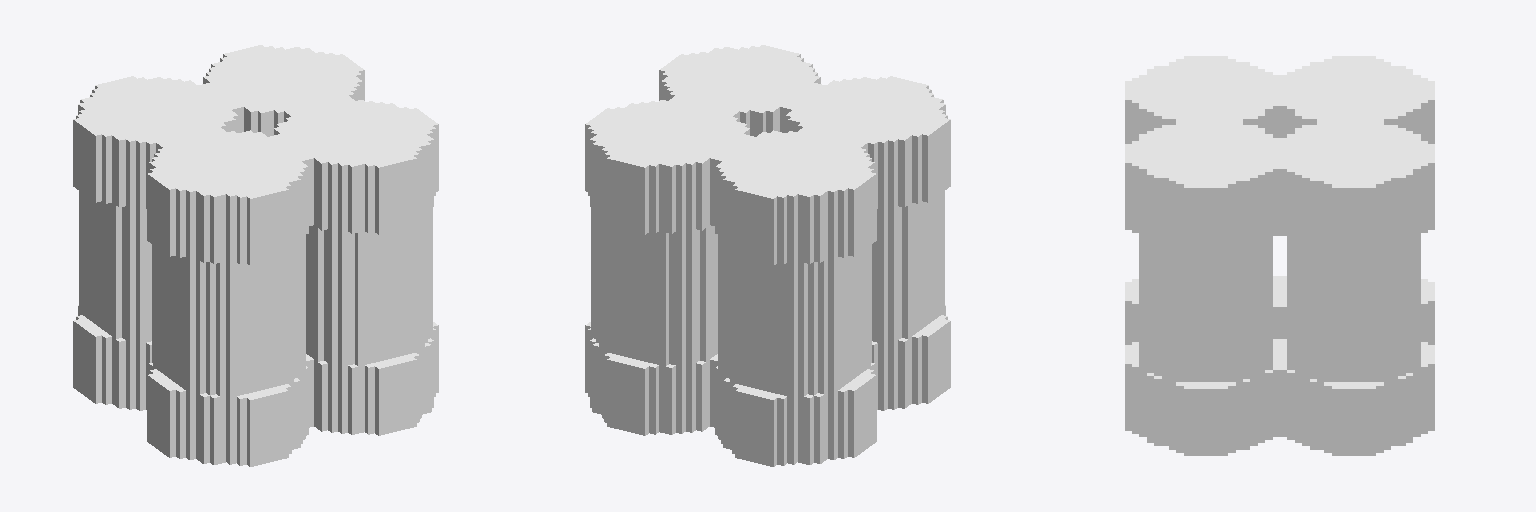
Rendered from AlienRifleAmmo.obj.
The picture shows the model from 3 angles: view 1: azimuth 30°, elevation 25°; view 2: azimuth 150°, elevation 25°; view 3: azimuth 270°, elevation 25°; orthographic projection.
Parts seen in each view (by area): view 1: object 1; view 2: object 1; view 3: object 1.
Boxes of the visible parts, x1,y1,x2,y2 form: object 1: [73, 45, 438, 466]; object 1: [585, 45, 950, 466]; object 1: [1125, 56, 1434, 455].
Bounding box in the file's own units: 4.2 × 4 × 4.2.